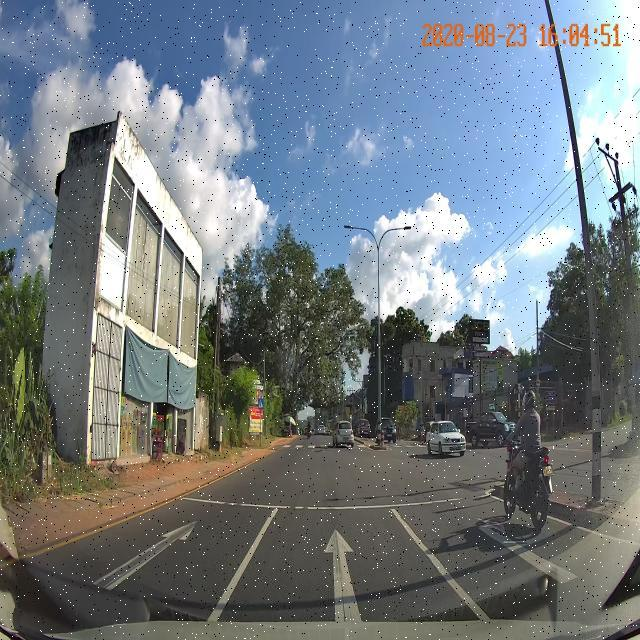forward: (204, 517, 496, 621)
